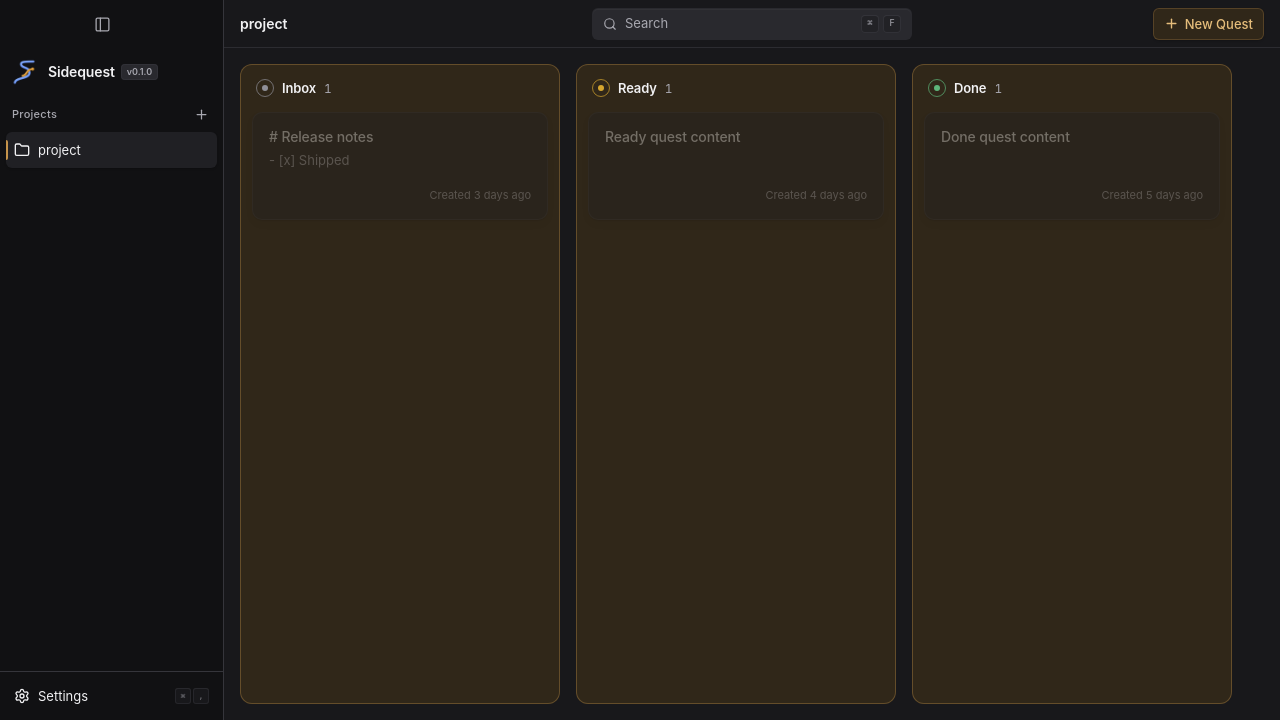
it: App › renders_markdown_then_edits_the_raw_content_with_status_colored_actions
The width and height of the screenshot is (1280, 720).
What coordinates should you click on to do the following:
click the button "Release notes"
I would click on:
 (321, 136)
Its box is [252,112,548,220].
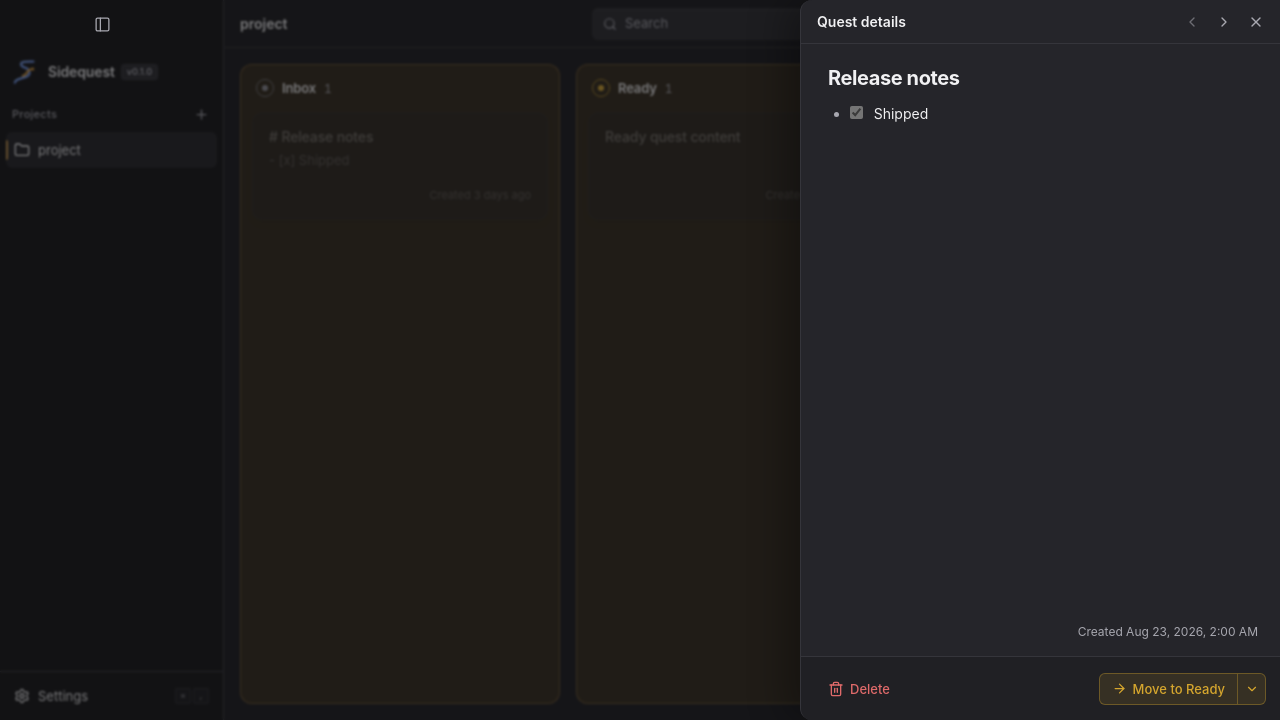
Check: the heading "Release notes" is shown, box [828,66,960,90]
Check: the checkbox is disabled, box [850,106,863,119]
What coordinates should you click on to do the following:
click the button "Release notes Shipped"
I would click on:
 (894, 78)
Its box is [828,66,960,122].
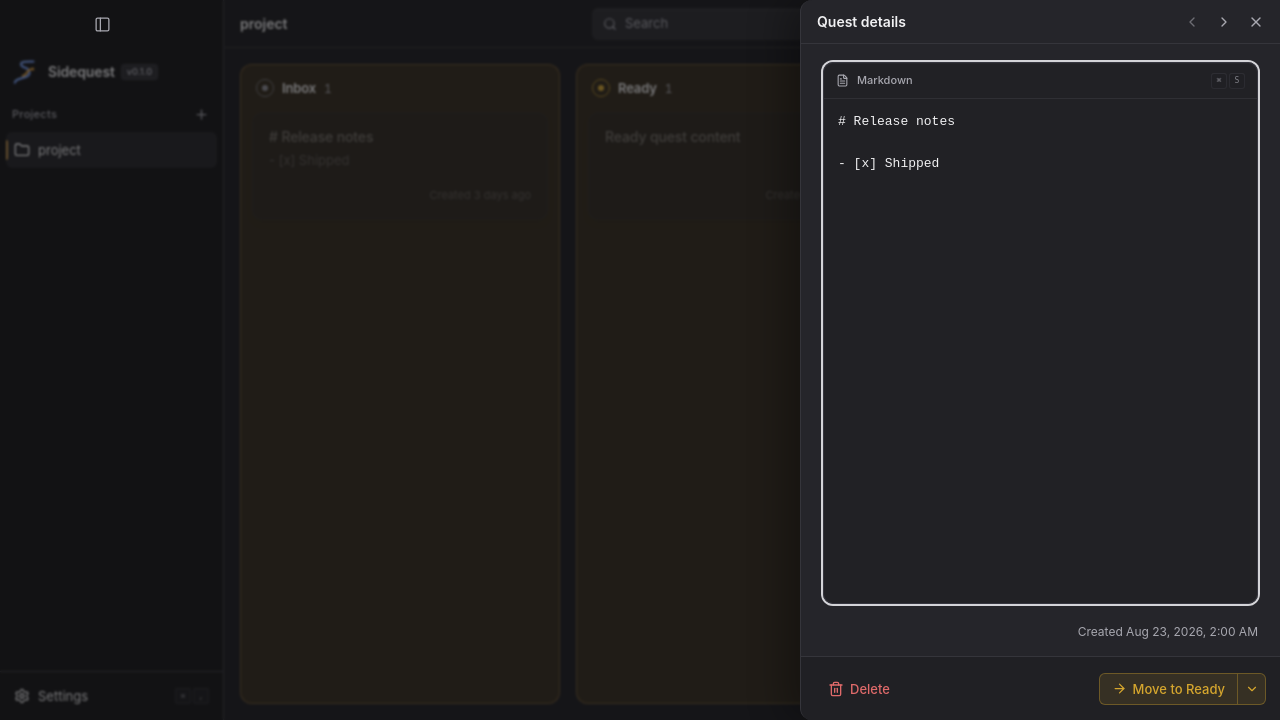
Check: the text "Markdown" is shown, box [857,71,913,90]
